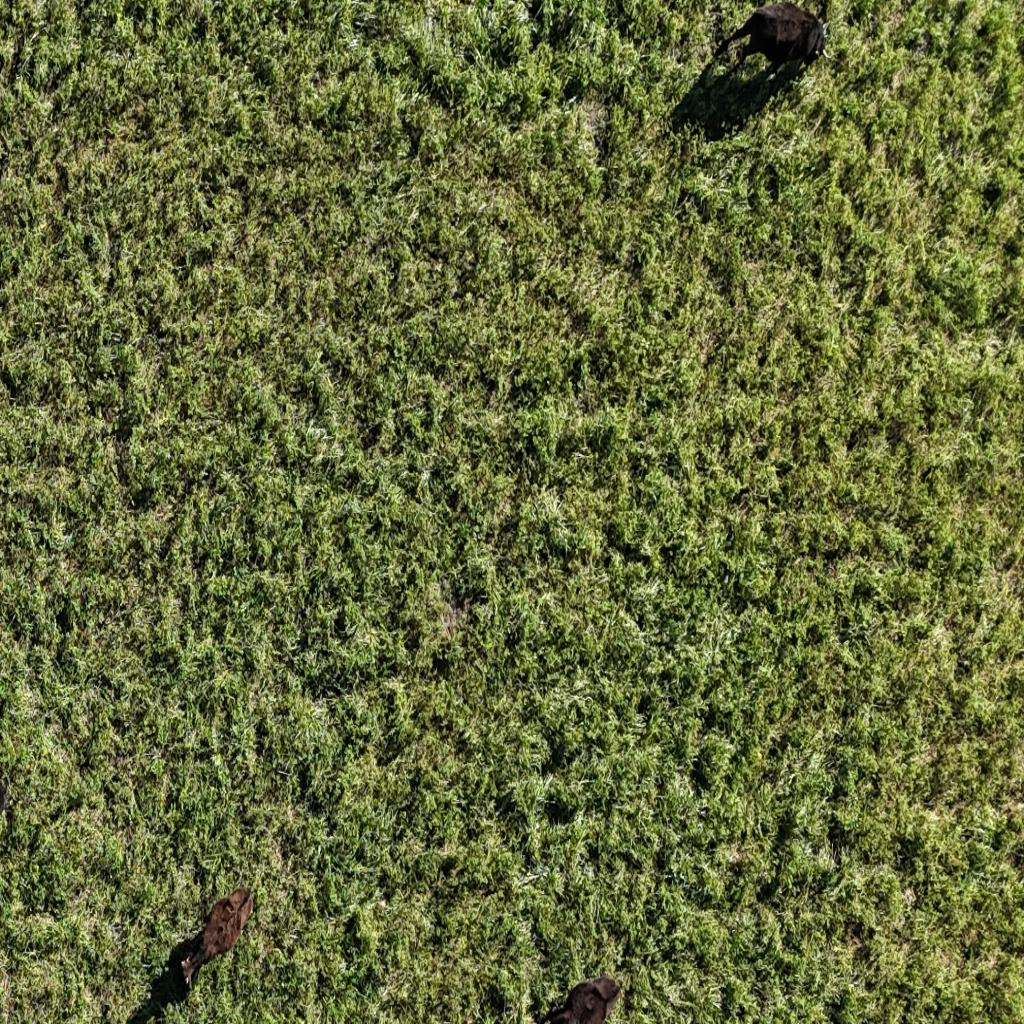cow: (650, 0, 861, 165), (114, 860, 278, 1023), (500, 946, 656, 1024)
